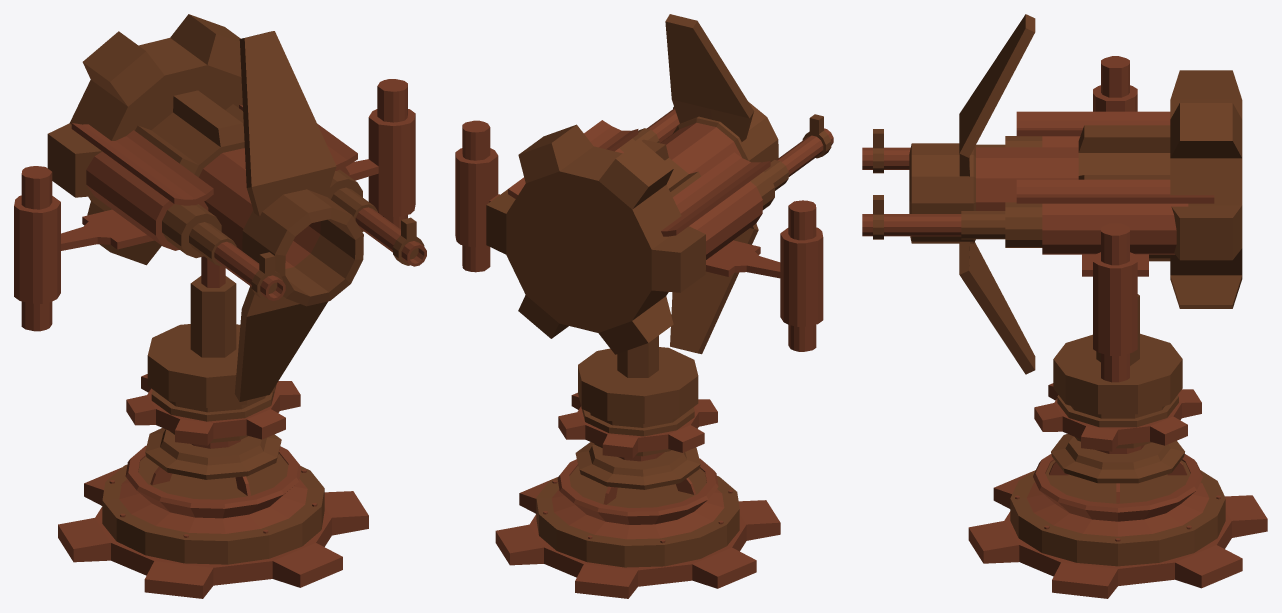
The model's file is Cannon_3.glb.
3 renders of one model, left to right at view 1: azimuth 30°, elevation 25°; view 2: azimuth 150°, elevation 25°; view 3: azimuth 270°, elevation 25°, orthographic. The views are drawn at different scales.
Parts seen in each view (by area): view 1: Cannon_3_Gun, Cannon_3_Base, Cannon_3_Mid; view 2: Cannon_3_Gun, Cannon_3_Base, Cannon_3_Mid; view 3: Cannon_3_Gun, Cannon_3_Base, Cannon_3_Mid.
Part boxes in pixels (x1,y1,x2,y2): Cannon_3_Gun: (14, 14, 426, 401); Cannon_3_Base: (58, 445, 368, 598); Cannon_3_Mid: (126, 256, 300, 479); Cannon_3_Gun: (455, 14, 833, 354); Cannon_3_Base: (495, 458, 780, 598); Cannon_3_Mid: (558, 335, 717, 489); Cannon_3_Gun: (862, 14, 1242, 382); Cannon_3_Base: (968, 454, 1267, 598); Cannon_3_Mid: (1034, 294, 1201, 483).
Size of the model in its own units: 2.02 by 2.62 by 1.87.
